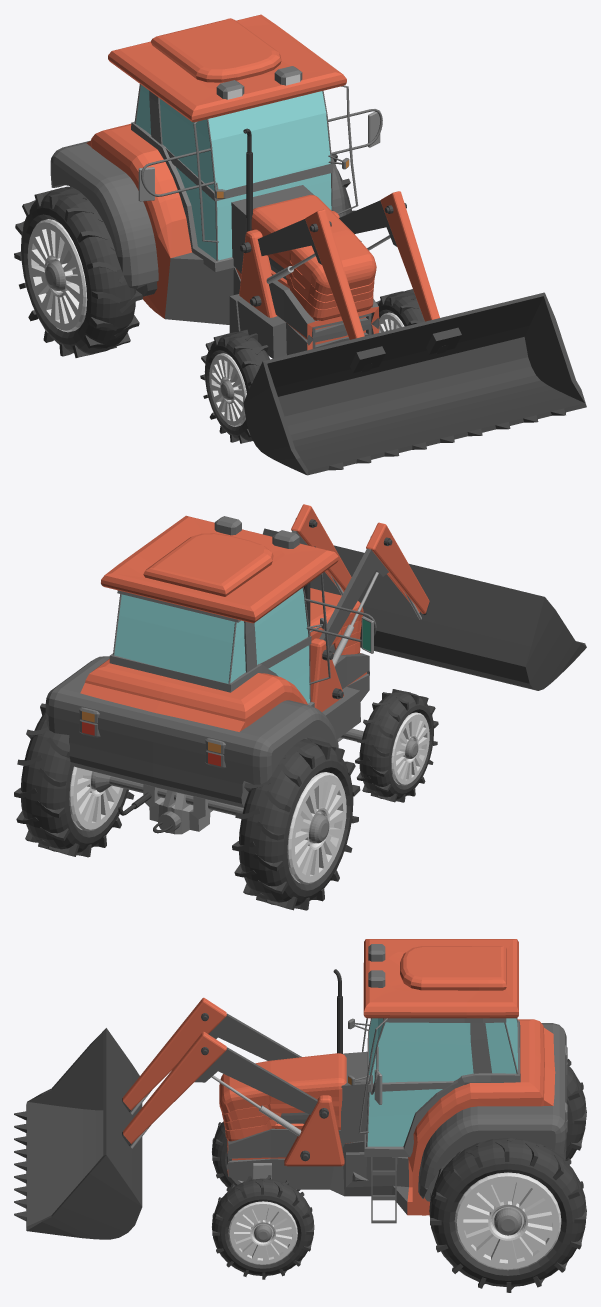
The model's file is tractor w.glass.fbx.
3 views of the same model, one above another, from view 1: azimuth 30°, elevation 25°; view 2: azimuth 150°, elevation 25°; view 3: azimuth 270°, elevation 25° (orthographic). The views are drawn at different scales.
Parts seen in each view (by area): view 1: tractor01.001, tractorbucket04.001, tractor01backleftwhell.001, tractorbucket02.001, tractor01frontleftwhell.001, tractorbucket01.001, tractor01frontrightwhell.001; view 2: tractor01.001, tractorbucket04.001, tractor01backleftwhell.001, tractor01backrightwhell.001, tractor01frontleftwhell.001, tractorbucket02.001, tractorbucket01.001; view 3: tractor01.001, tractorbucket04.001, tractor01backrightwhell.001, tractorbucket02.001, tractor01frontrightwhell.001, tractorbucket01.001, tractor01backleftwhell.001, tractor01frontleftwhell.001.
Part boxes in pixels (<box>): tractor01.001: <box>50,14,382,358</box>; tractorbucket04.001: <box>243,292,586,475</box>; tractor01backleftwhell.001: <box>14,186,142,357</box>; tractorbucket02.001: <box>257,191,448,372</box>; tractor01frontleftwhell.001: <box>200,329,269,443</box>; tractorbucket01.001: <box>239,211,339,317</box>; tractor01frontrightwhell.001: <box>376,289,424,332</box>; tractor01.001: <box>45,515,376,834</box>; tractorbucket04.001: <box>263,528,586,690</box>; tractor01backleftwhell.001: <box>232,739,360,910</box>; tractor01backrightwhell.001: <box>14,703,134,857</box>; tractor01frontleftwhell.001: <box>355,689,438,802</box>; tractorbucket02.001: <box>291,504,429,666</box>; tractorbucket01.001: <box>310,638,344,711</box>; tractor01.001: <box>219,939,567,1223</box>; tractorbucket04.001: <box>14,1028,142,1239</box>; tractor01backrightwhell.001: <box>429,1138,586,1292</box>; tractorbucket02.001: <box>122,997,317,1148</box>; tractor01frontrightwhell.001: <box>212,1175,314,1279</box>; tractorbucket01.001: <box>284,1095,344,1166</box>; tractor01backleftwhell.001: <box>566,1059,586,1159</box>; tractor01frontleftwhell.001: <box>212,1121,300,1191</box>.
Bounding box in the file's own units: 114 × 113 × 214.
